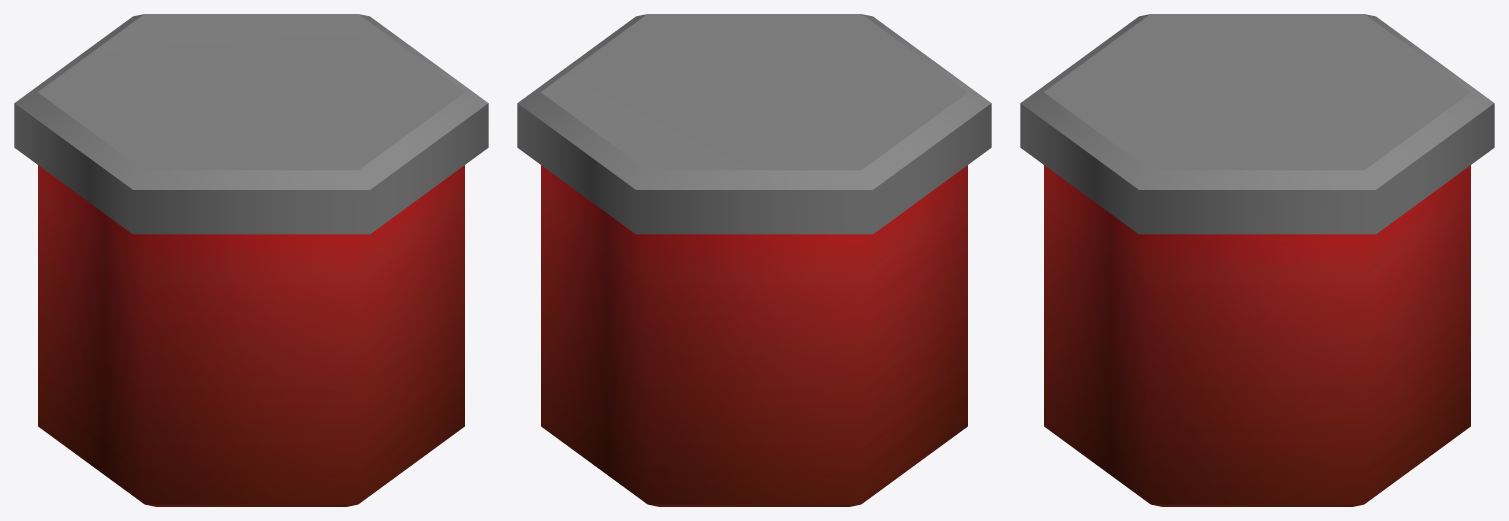
The model's file is Jar_2_F.fbx.
3 views of the same model, side by side, from view 1: azimuth 30°, elevation 25°; view 2: azimuth 150°, elevation 25°; view 3: azimuth 270°, elevation 25° (orthographic).
Visible parts, largest first — view 1: Jar_2_F; view 2: Jar_2_F; view 3: Jar_2_F.
Boxes of the visible parts, box(x1,y1,x2,y2) form: Jar_2_F: box(14, 14, 488, 506); Jar_2_F: box(517, 14, 991, 506); Jar_2_F: box(1020, 14, 1494, 506).
Bounding box in the file's own units: 17.99 × 16.69 × 20.77.
